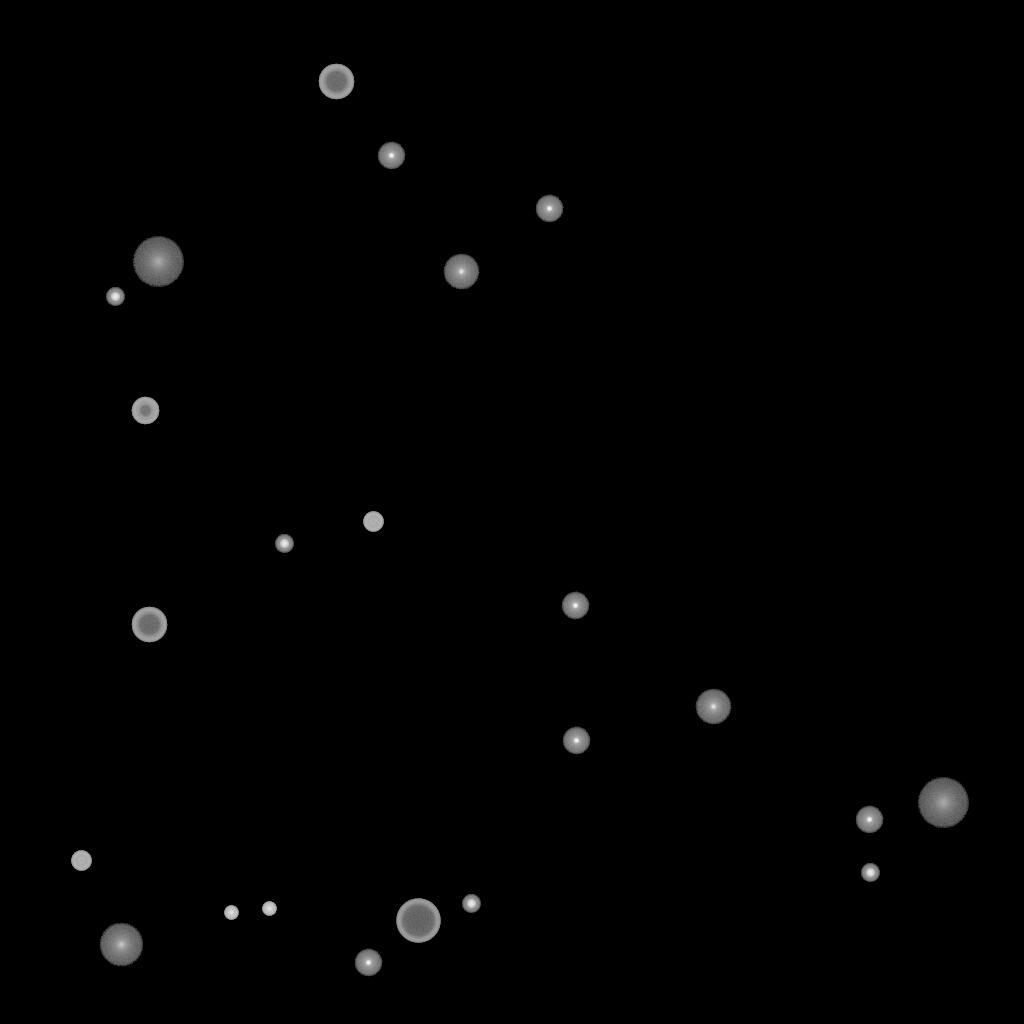depth:-10: (561, 592, 589, 620), (354, 949, 382, 977), (377, 142, 405, 170), (562, 727, 590, 755), (535, 195, 563, 223), (855, 806, 883, 834)
depth:-20: (861, 864, 879, 882), (275, 535, 293, 553), (462, 895, 480, 913), (106, 288, 124, 306)
depth:-30: (224, 906, 238, 920), (262, 902, 276, 916)
depth:-40: (71, 851, 91, 871), (363, 512, 383, 532)
depth:-50: (131, 397, 159, 425)
depth:-60: (131, 607, 167, 643), (318, 64, 354, 100)
depth:-70: (396, 899, 440, 943)
depth:0: (443, 254, 479, 290), (695, 689, 731, 725)
depth:10: (99, 923, 143, 967)
depth:20: (917, 778, 969, 828), (132, 237, 184, 287)
